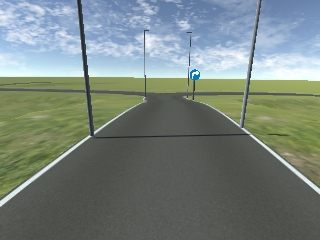right: (190, 68, 201, 82)
